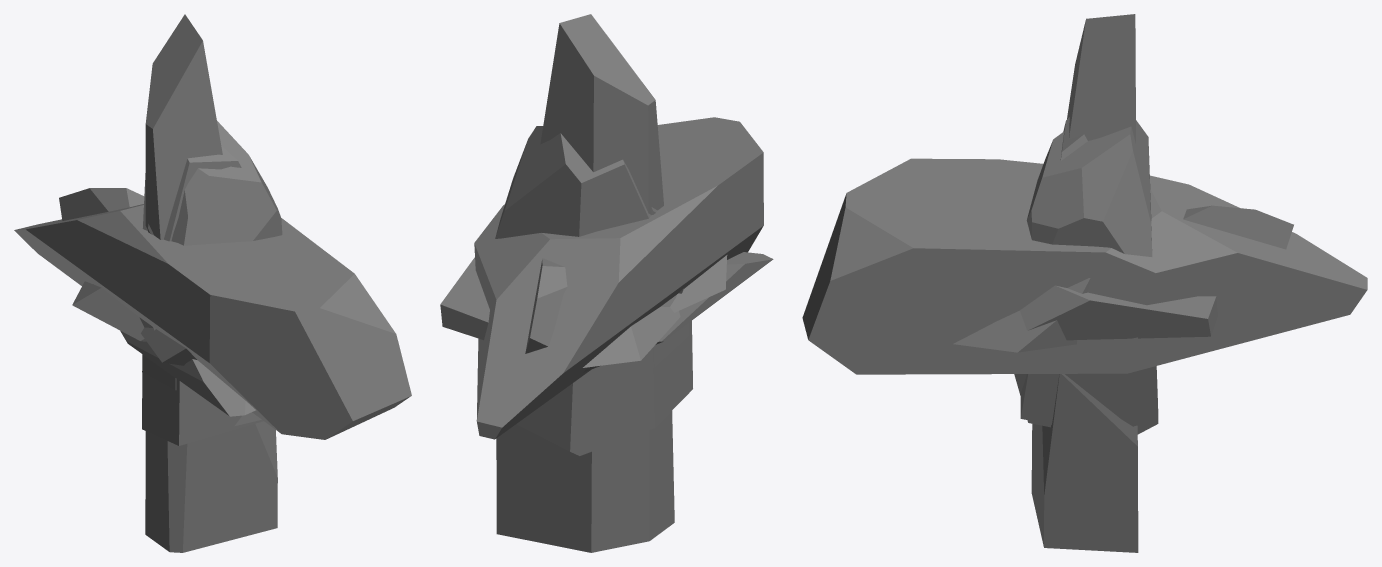
Rendered from Rock_G.fbx.
3 renders of one model, left to right at view 1: azimuth 30°, elevation 25°; view 2: azimuth 150°, elevation 25°; view 3: azimuth 270°, elevation 25°, orthographic. The views are drawn at different scales.
Parts seen in each view (by area): view 1: Rock_10, Rock_14, Rock_06, Rock_15, Rock_19, Rock_13, Rock_12, Rock_07; view 2: Rock_10, Rock_14, Rock_06, Rock_15, Rock_12, Rock_19, Rock_07; view 3: Rock_10, Rock_14, Rock_06, Rock_12, Rock_13, Rock_19, Rock_15.
Boxes of the visible parts, <box> form: Rock_10: <box>14,204,411,439</box>; Rock_14: <box>145,14,277,552</box>; Rock_06: <box>142,121,282,445</box>; Rock_15: <box>59,188,255,416</box>; Rock_19: <box>72,281,146,341</box>; Rock_13: <box>148,146,261,425</box>; Rock_12: <box>141,327,196,365</box>; Rock_07: <box>142,354,176,390</box>; Rock_10: <box>474,117,763,439</box>; Rock_14: <box>496,14,674,552</box>; Rock_06: <box>495,126,692,455</box>; Rock_15: <box>525,252,773,372</box>; Rock_12: <box>440,255,727,340</box>; Rock_19: <box>583,306,680,367</box>; Rock_07: <box>653,323,689,367</box>; Rock_10: <box>802,158,1367,374</box>; Rock_14: <box>1031,14,1138,552</box>; Rock_06: <box>1014,120,1158,434</box>; Rock_12: <box>1020,285,1217,340</box>; Rock_13: <box>1020,117,1149,426</box>; Rock_19: <box>953,278,1090,352</box>; Rock_15: <box>1183,205,1293,249</box>.
Bounding box in the file's own units: 740 × 1882 × 1890.
